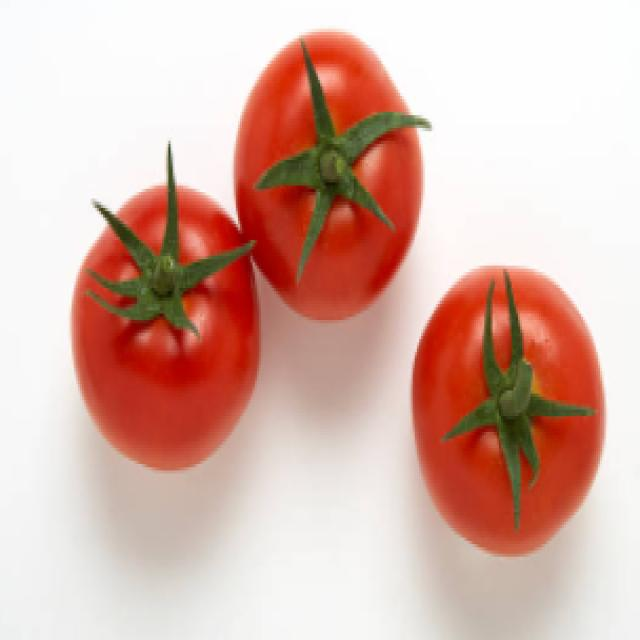Tomato: (234, 25, 432, 330), (75, 165, 261, 478)
